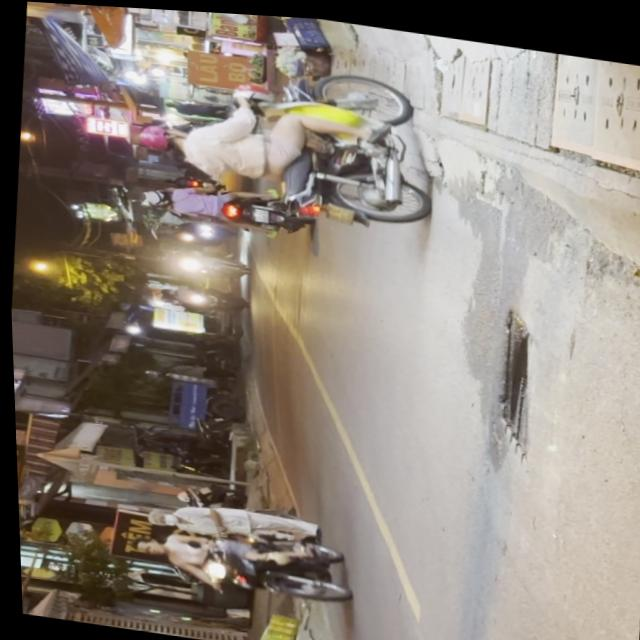helmet: (132, 119, 183, 153), (17, 587, 32, 615)
licenseplate: (119, 37, 440, 236), (119, 513, 351, 608)
motorcyclist: (126, 535, 162, 557)
